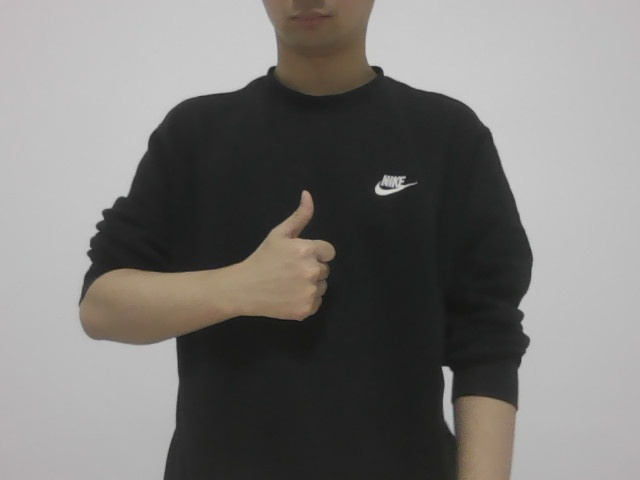good: (247, 175, 339, 322)
